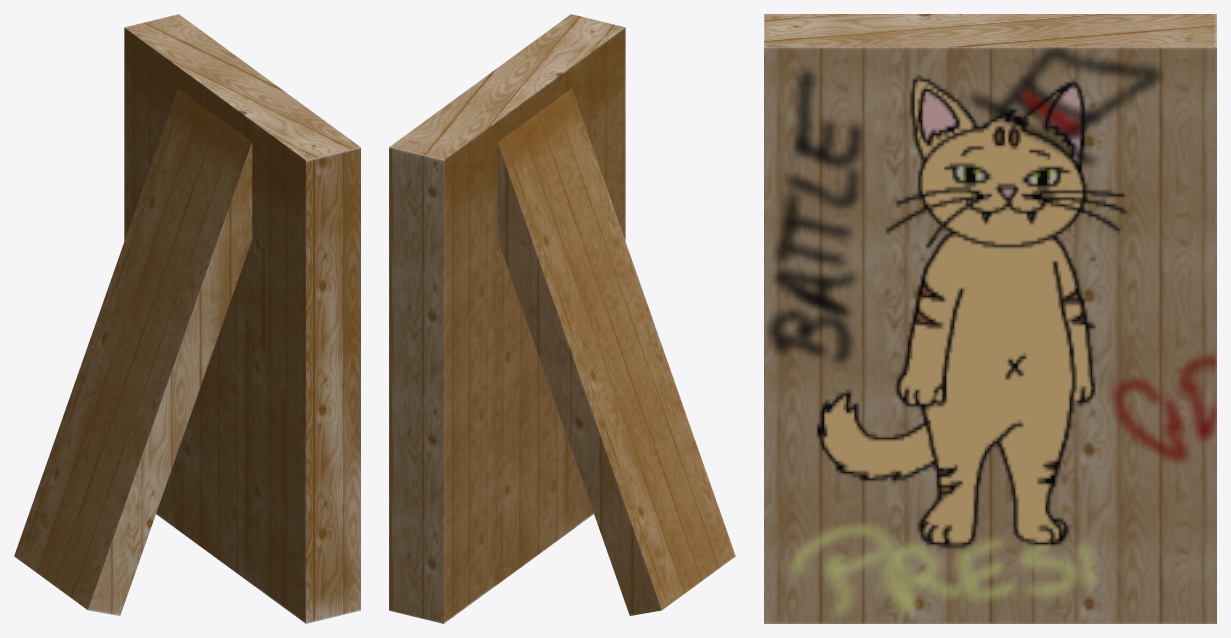
The model's file is enemy.obj.
3 views of the same model, side by side, from view 1: azimuth 30°, elevation 25°; view 2: azimuth 150°, elevation 25°; view 3: azimuth 270°, elevation 25° (orthographic). The views are drawn at different scales.
Visible parts, largest first — view 1: Cube; view 2: Cube; view 3: Cube.
Part boxes in pixels (left/top/right/bottom): Cube: left=14, top=14, right=360, bottom=623; Cube: left=389, top=14, right=735, bottom=623; Cube: left=764, top=14, right=1216, bottom=623.
Size of the model in its own units: 0.9882 by 2 by 1.42.
1 material, 1 textured.
